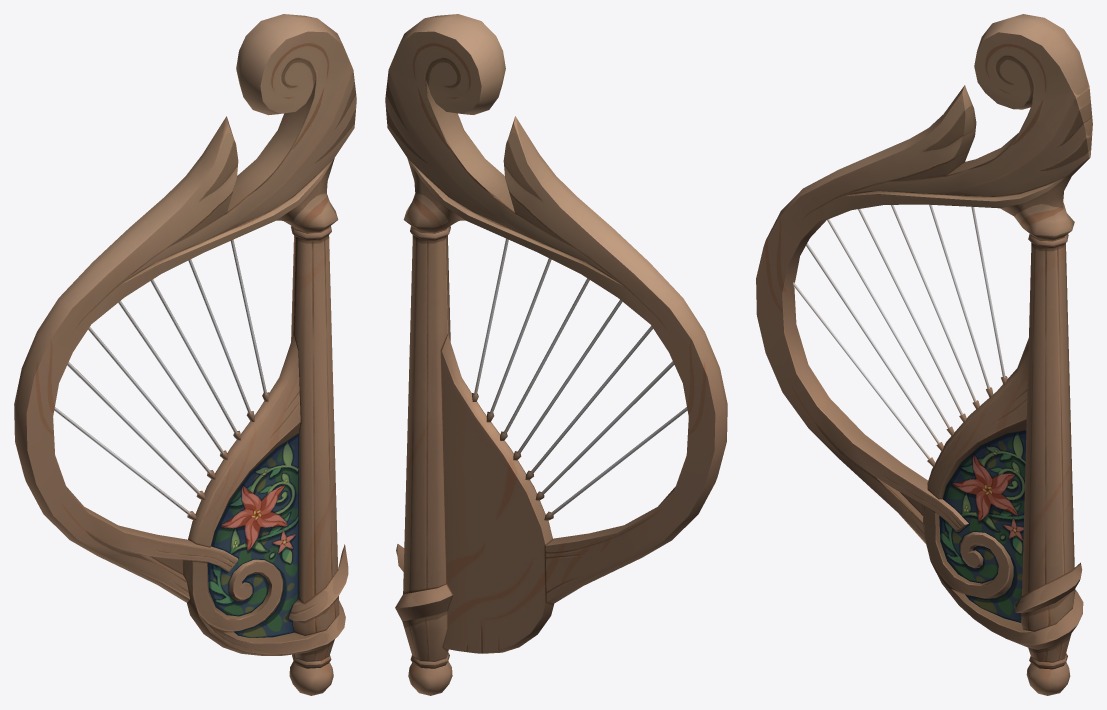
File: Windsong Lyre.glb
The picture shows the model from 3 angles, left to right: view 1: azimuth 30°, elevation 25°; view 2: azimuth 150°, elevation 25°; view 3: azimuth 330°, elevation 25°; orthographic projection.
Visible parts, largest first — view 1: AvatarObj_Widget_TeyvatLyre_01; view 2: AvatarObj_Widget_TeyvatLyre_01; view 3: AvatarObj_Widget_TeyvatLyre_01.
Part boxes in pixels (x1,y1,x2,y2): AvatarObj_Widget_TeyvatLyre_01: (14, 14, 356, 695); AvatarObj_Widget_TeyvatLyre_01: (385, 14, 727, 695); AvatarObj_Widget_TeyvatLyre_01: (756, 14, 1092, 695).
Bounding box in the file's own units: 0.2271 × 0.4363 × 0.0413.
1 material, 1 textured.
